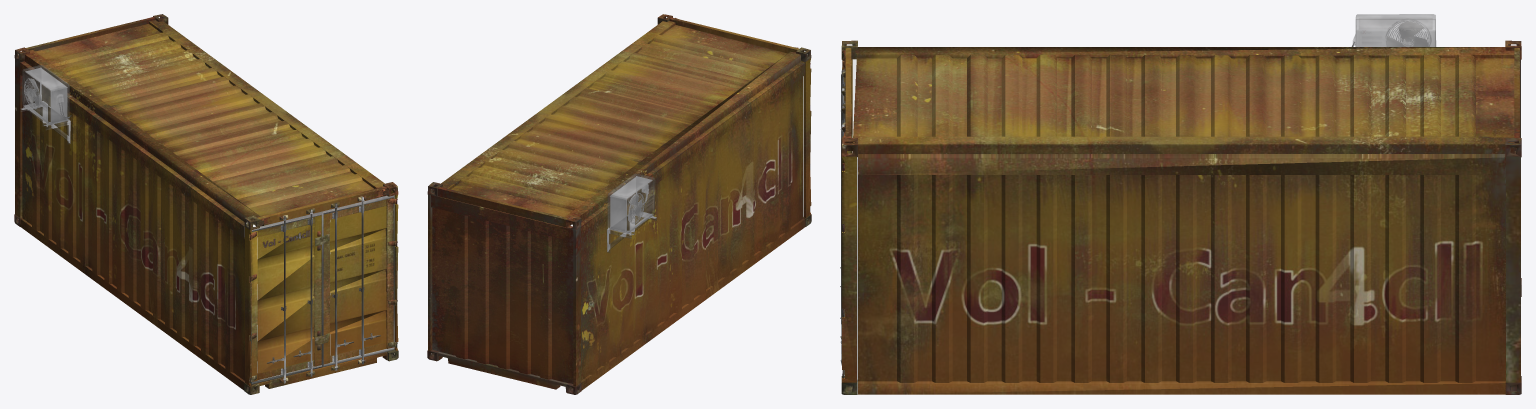
Rendered from container.glb.
3 renders of one model, left to right at view 1: azimuth 30°, elevation 25°; view 2: azimuth 150°, elevation 25°; view 3: azimuth 270°, elevation 25°, orthographic. The views are drawn at different scales.
Parts seen in each view (by area): view 1: air_conditioning; view 2: air_conditioning; view 3: air_conditioning.
Part boxes in pixels (<box>): air_conditioning: <box>14,14,398,394</box>; air_conditioning: <box>427,14,811,394</box>; air_conditioning: <box>840,14,1521,394</box>.
Bounding box in the file's own units: 2.57 × 2.56 × 6.06.
Materials: 2 (2 with a texture image).
